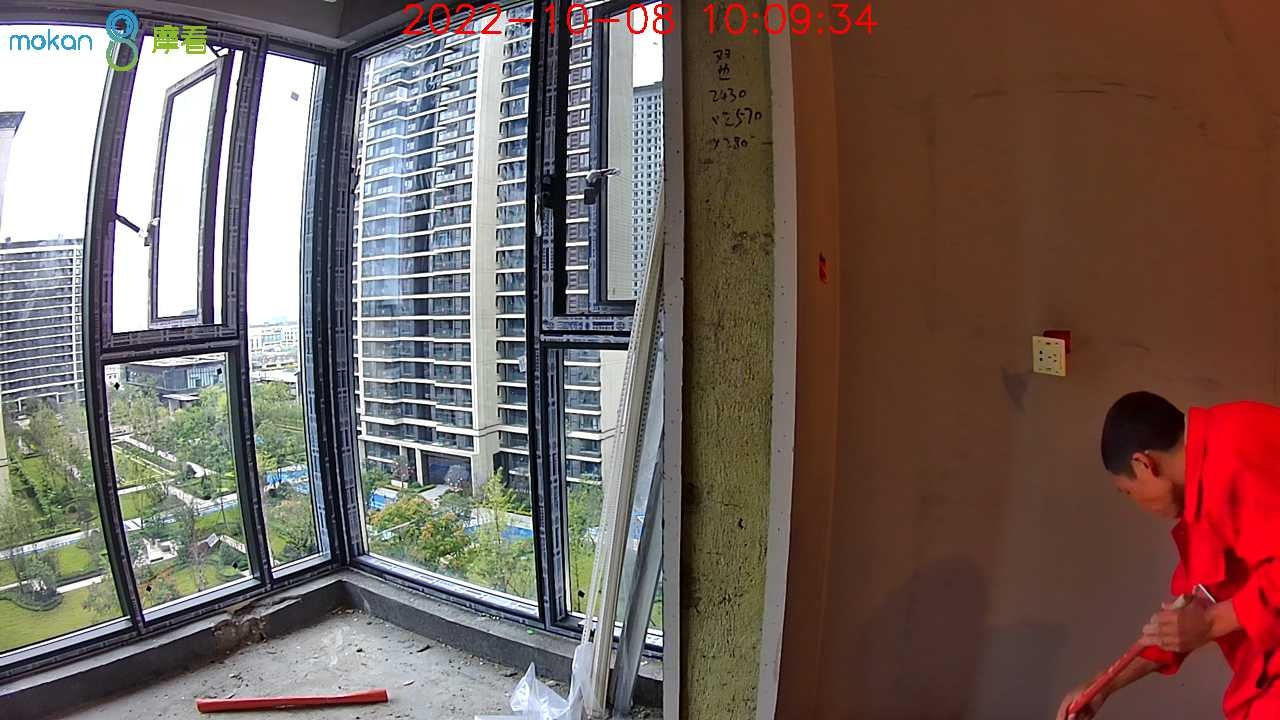people: (1057, 391, 1280, 717)
window: (1, 6, 666, 662)
